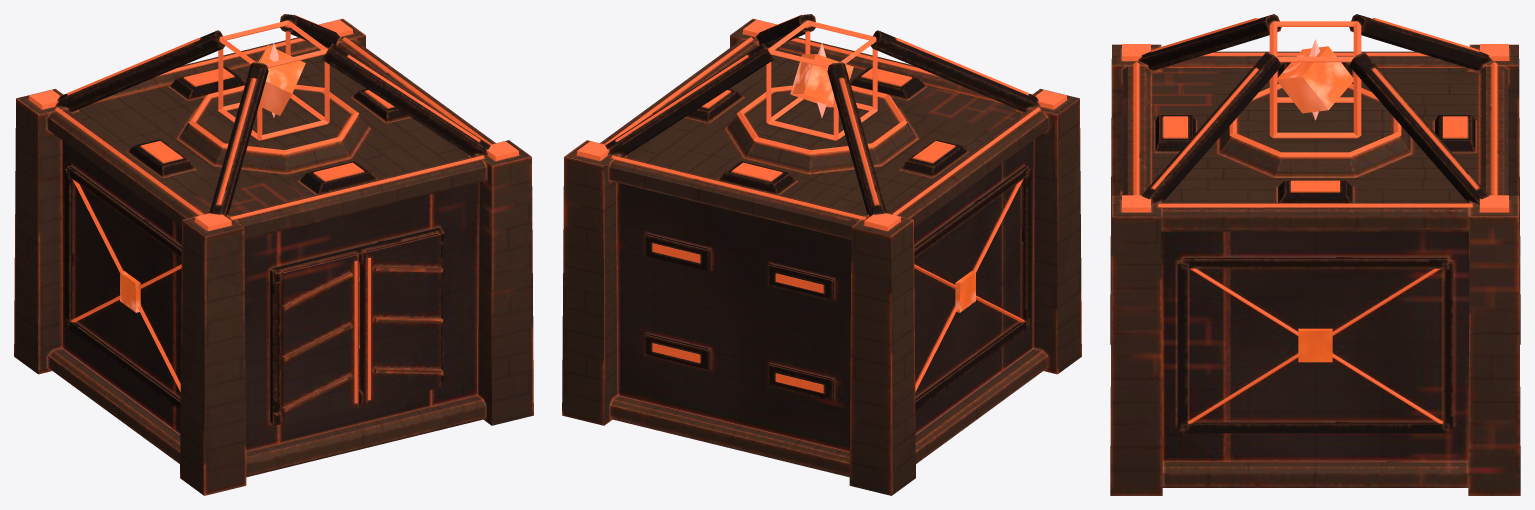
The model's file is tesseract.glb.
3 views of the same model, side by side, from view 1: azimuth 30°, elevation 25°; view 2: azimuth 150°, elevation 25°; view 3: azimuth 270°, elevation 25° (orthographic). The views are drawn at different scales.
Parts seen in each view (by area): view 1: Tesseract, door_l, door_r, cage, core; view 2: Tesseract, cage, core; view 3: Tesseract, cage, core.
Part boxes in pixels (box(x1,y1,x2,y2)): Tesseract: box(14, 14, 533, 495); door_l: box(359, 232, 443, 405); door_r: box(280, 252, 358, 425); cage: box(218, 20, 329, 140); core: box(258, 43, 305, 117); Tesseract: box(562, 14, 1081, 495); cage: box(766, 20, 877, 140); core: box(790, 43, 853, 117); Tesseract: box(1110, 14, 1520, 495); cage: box(1269, 21, 1361, 138); core: box(1277, 39, 1353, 120).
Bounding box in the file's own units: 1.27 × 1.29 × 1.27.
Materials: 5 (5 with a texture image).
